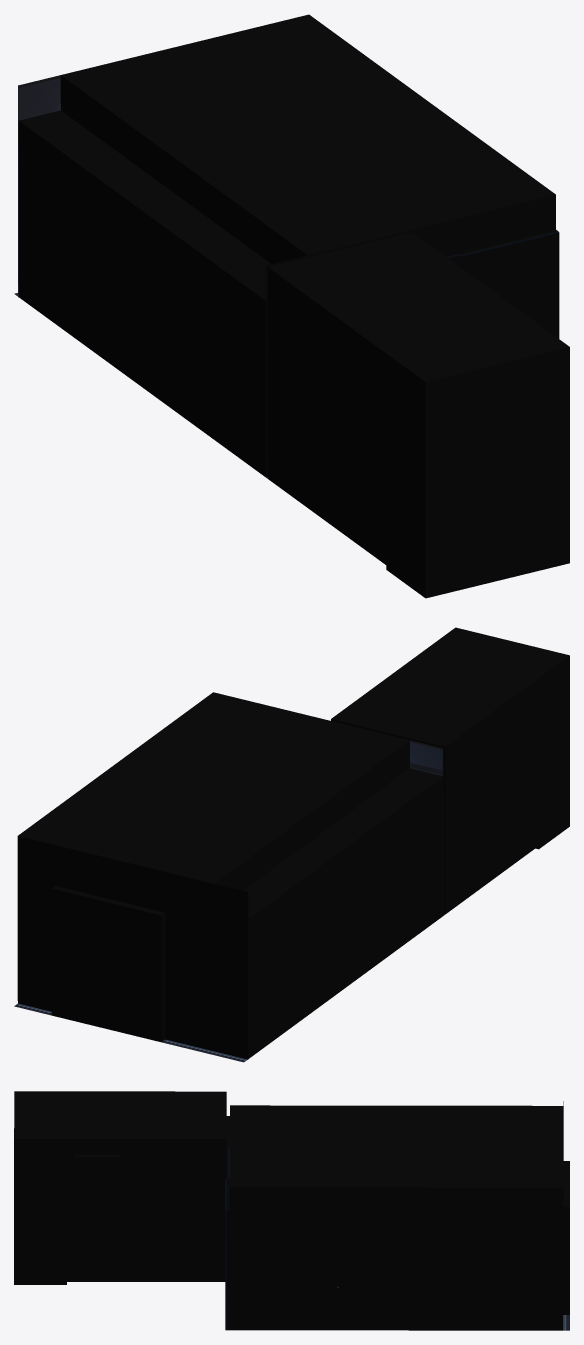
The model's file is small_apartment_night_version.glb.
3 views of the same model, one above another, from view 1: azimuth 30°, elevation 25°; view 2: azimuth 150°, elevation 25°; view 3: azimuth 270°, elevation 25° (orthographic). The views are drawn at different scales.
Parts seen in each view (by area): view 1: Material2 (×2); view 2: Material2 (×2); view 3: Material2 (×2).
Part boxes in pixels (x1=…): Material2 (×2): x1=14, y1=14, x2=569, y2=598; Material2 (×2): x1=14, y1=627, x2=569, y2=1062; Material2 (×2): x1=14, y1=1091, x2=569, y2=1330.
Size of the model in its own units: 2102 by 1482 by 5113.
8 materials, 8 textured.
